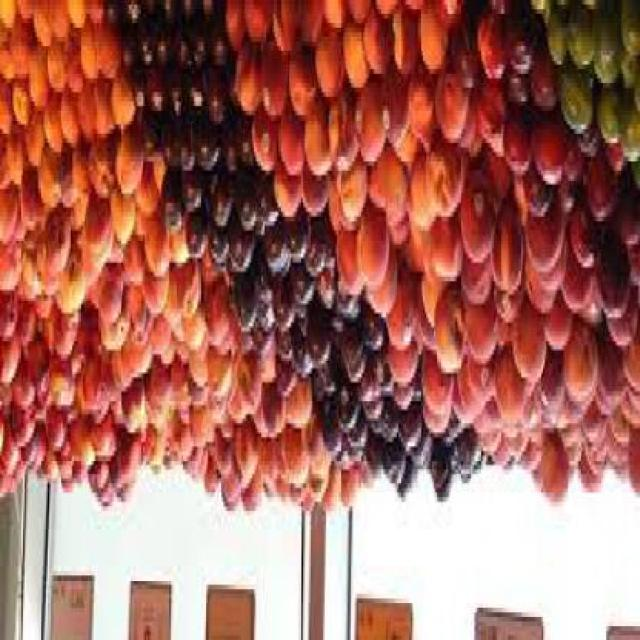BIODEGRADABLE: (423, 138, 460, 225), (432, 55, 466, 148), (384, 262, 418, 355), (594, 230, 628, 322), (458, 175, 492, 267), (491, 202, 522, 300), (367, 152, 407, 226), (433, 290, 464, 382), (557, 55, 591, 138), (562, 327, 596, 410), (559, 230, 590, 318), (530, 115, 564, 194), (510, 308, 541, 392), (473, 83, 504, 166), (358, 207, 388, 290), (504, 5, 538, 78), (74, 202, 109, 272), (355, 83, 382, 171), (476, 9, 506, 88), (286, 46, 316, 125), (416, 5, 446, 83), (492, 355, 522, 433), (529, 37, 557, 120), (313, 32, 344, 106), (53, 244, 84, 318), (524, 216, 562, 276), (324, 101, 354, 176), (300, 212, 332, 280), (570, 193, 596, 276), (594, 341, 620, 424), (406, 74, 432, 157), (300, 97, 326, 180), (260, 42, 286, 125), (427, 221, 458, 290), (502, 116, 532, 184), (206, 290, 232, 368), (336, 165, 367, 230), (584, 152, 611, 226), (590, 5, 621, 69), (37, 221, 68, 285), (109, 438, 140, 502), (390, 9, 415, 88), (381, 70, 405, 152), (534, 442, 566, 502), (76, 364, 106, 428), (25, 341, 49, 419), (603, 295, 637, 350), (362, 14, 389, 83), (419, 359, 450, 419), (121, 294, 152, 354), (336, 234, 362, 304), (464, 308, 494, 368), (76, 308, 106, 368), (251, 110, 275, 184), (277, 116, 303, 184), (460, 262, 491, 318), (342, 28, 367, 97), (235, 46, 258, 120), (367, 262, 395, 322), (337, 327, 365, 387), (192, 116, 220, 176), (142, 364, 168, 428), (534, 244, 564, 299), (542, 299, 569, 359), (235, 354, 258, 424), (568, 5, 590, 78), (520, 170, 551, 221), (479, 156, 510, 207), (134, 161, 158, 225), (616, 97, 638, 166), (406, 161, 428, 230), (595, 92, 622, 148), (52, 308, 79, 364), (280, 438, 305, 498), (233, 424, 258, 484), (272, 175, 299, 230), (303, 313, 329, 369), (94, 32, 120, 88), (113, 142, 139, 198), (614, 193, 638, 253), (141, 226, 165, 286), (89, 147, 113, 207), (176, 262, 198, 327), (386, 341, 414, 392), (453, 433, 481, 484), (46, 359, 74, 410), (95, 313, 126, 359), (1, 414, 32, 460), (160, 175, 182, 239), (19, 428, 44, 484), (239, 5, 273, 46), (354, 308, 384, 354), (97, 267, 120, 327), (109, 198, 134, 253), (248, 248, 272, 304), (546, 4, 565, 74), (270, 5, 296, 56), (84, 460, 110, 511), (420, 272, 442, 332), (428, 447, 450, 507), (259, 387, 281, 447), (90, 88, 112, 148), (18, 240, 37, 308), (16, 179, 39, 235), (60, 166, 88, 212), (120, 382, 143, 438), (580, 401, 605, 452), (303, 424, 326, 479), (492, 285, 522, 327), (284, 212, 305, 272), (221, 111, 239, 180), (540, 359, 562, 415), (206, 216, 228, 272), (210, 179, 232, 235), (3, 133, 25, 189), (457, 368, 481, 419), (414, 286, 432, 354), (230, 281, 252, 336), (67, 424, 91, 474), (466, 364, 492, 410), (300, 174, 326, 220), (378, 447, 404, 493), (124, 336, 150, 382), (166, 424, 192, 470), (284, 433, 305, 489), (141, 433, 164, 484), (296, 5, 322, 50), (37, 161, 58, 216), (457, 102, 475, 166), (161, 65, 179, 129), (28, 51, 46, 115), (111, 88, 134, 138), (393, 415, 421, 456), (208, 354, 230, 406), (175, 111, 194, 171), (58, 97, 77, 157), (122, 243, 144, 294), (505, 78, 529, 124), (319, 406, 341, 456), (620, 336, 638, 396), (328, 179, 346, 239), (42, 102, 60, 162), (25, 116, 43, 176), (168, 359, 186, 419), (187, 19, 208, 70), (14, 317, 35, 368), (76, 41, 95, 97), (254, 188, 277, 234), (90, 420, 113, 466), (182, 74, 203, 124), (619, 5, 638, 60), (619, 378, 638, 433), (315, 267, 334, 322), (0, 234, 17, 295), (76, 88, 92, 152), (199, 267, 221, 313), (8, 37, 30, 83), (188, 406, 210, 452), (270, 281, 288, 336), (144, 65, 162, 120), (97, 355, 115, 410), (365, 355, 389, 396), (284, 392, 308, 433), (141, 281, 165, 322), (158, 9, 177, 60), (46, 46, 65, 97), (213, 428, 232, 479), (557, 428, 580, 470), (370, 405, 393, 447), (342, 414, 363, 460), (335, 387, 356, 433), (11, 368, 32, 414), (208, 410, 234, 447), (0, 293, 18, 346), (185, 212, 204, 262), (188, 346, 207, 396), (256, 452, 275, 502), (526, 286, 552, 322), (582, 442, 604, 484), (289, 276, 311, 318), (575, 460, 599, 498), (502, 428, 526, 466), (449, 392, 471, 433), (408, 235, 430, 276), (291, 327, 306, 387), (227, 226, 245, 276), (578, 299, 602, 336), (0, 340, 17, 392), (138, 120, 159, 162), (206, 74, 222, 129), (323, 465, 339, 520), (563, 142, 582, 188), (553, 180, 572, 226), (395, 460, 414, 506), (255, 346, 274, 392), (222, 5, 241, 50), (138, 9, 153, 65), (182, 174, 204, 212), (420, 410, 446, 442), (323, 5, 349, 37), (607, 447, 625, 493), (360, 442, 378, 488), (210, 14, 225, 69), (236, 183, 252, 234), (236, 129, 252, 180), (555, 401, 580, 433), (265, 234, 286, 272), (122, 23, 136, 79), (0, 193, 14, 249), (318, 355, 337, 396), (339, 474, 358, 515), (575, 125, 596, 162), (162, 281, 176, 336), (384, 221, 408, 253), (183, 451, 206, 484), (184, 313, 202, 355), (112, 359, 130, 401), (48, 5, 66, 46), (80, 258, 98, 299), (220, 465, 238, 506), (45, 415, 63, 456), (471, 410, 497, 438), (608, 414, 627, 452), (395, 138, 414, 176), (32, 5, 48, 50), (158, 120, 172, 171), (239, 483, 261, 515), (346, 5, 372, 32), (131, 70, 146, 116), (168, 239, 186, 276), (226, 60, 237, 120), (275, 364, 291, 405), (226, 387, 242, 428), (412, 438, 430, 474), (0, 442, 17, 480), (66, 56, 80, 101), (60, 212, 83, 239), (0, 83, 11, 139), (11, 88, 26, 129), (308, 474, 327, 506), (628, 438, 638, 498), (491, 442, 509, 475), (394, 382, 412, 415), (274, 331, 292, 364), (203, 460, 217, 502), (6, 456, 20, 498), (591, 64, 615, 88), (53, 438, 69, 474), (268, 447, 282, 488), (108, 400, 123, 438), (605, 152, 626, 179), (437, 5, 458, 32), (0, 42, 11, 92), (617, 60, 631, 97), (85, 5, 104, 32), (482, 5, 504, 28), (122, 5, 144, 28), (624, 258, 638, 294), (522, 452, 540, 479), (68, 5, 86, 32), (37, 456, 51, 489), (520, 387, 531, 428), (372, 5, 397, 23), (468, 143, 482, 175), (0, 5, 14, 37), (566, 451, 579, 484), (478, 438, 497, 460), (308, 378, 321, 410), (362, 401, 380, 424), (105, 5, 123, 28), (70, 470, 88, 492), (160, 345, 174, 373), (632, 55, 638, 120), (527, 5, 548, 23), (256, 309, 270, 336), (219, 497, 235, 520), (176, 32, 187, 65), (132, 221, 143, 253), (231, 345, 249, 364), (274, 483, 286, 511), (171, 327, 183, 355), (292, 322, 305, 346), (0, 469, 9, 502), (402, 5, 418, 23), (495, 327, 511, 345), (55, 465, 70, 484), (300, 497, 312, 520), (250, 341, 264, 359), (288, 488, 302, 506), (18, 5, 32, 23), (630, 170, 638, 193), (60, 483, 71, 497), (337, 461, 349, 470)
